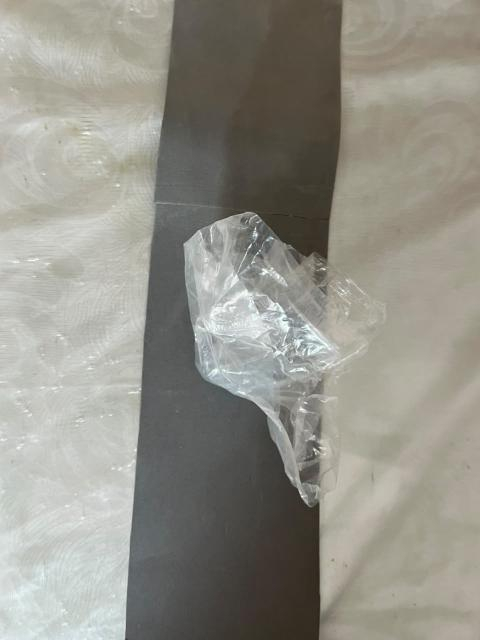LDPE: (162, 190, 405, 533)
